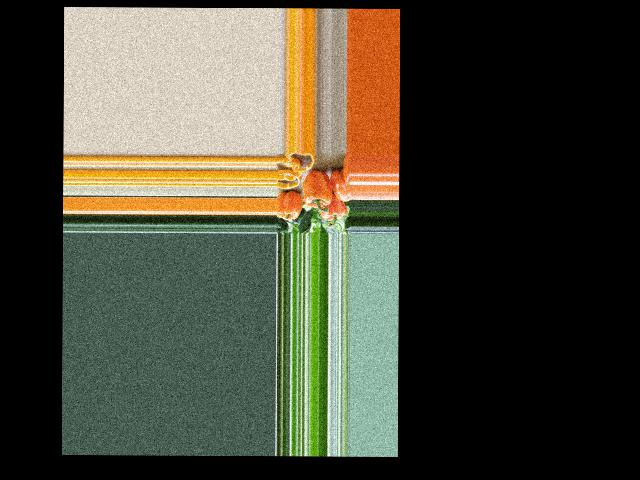bell_pepper: (330, 167, 350, 202)
